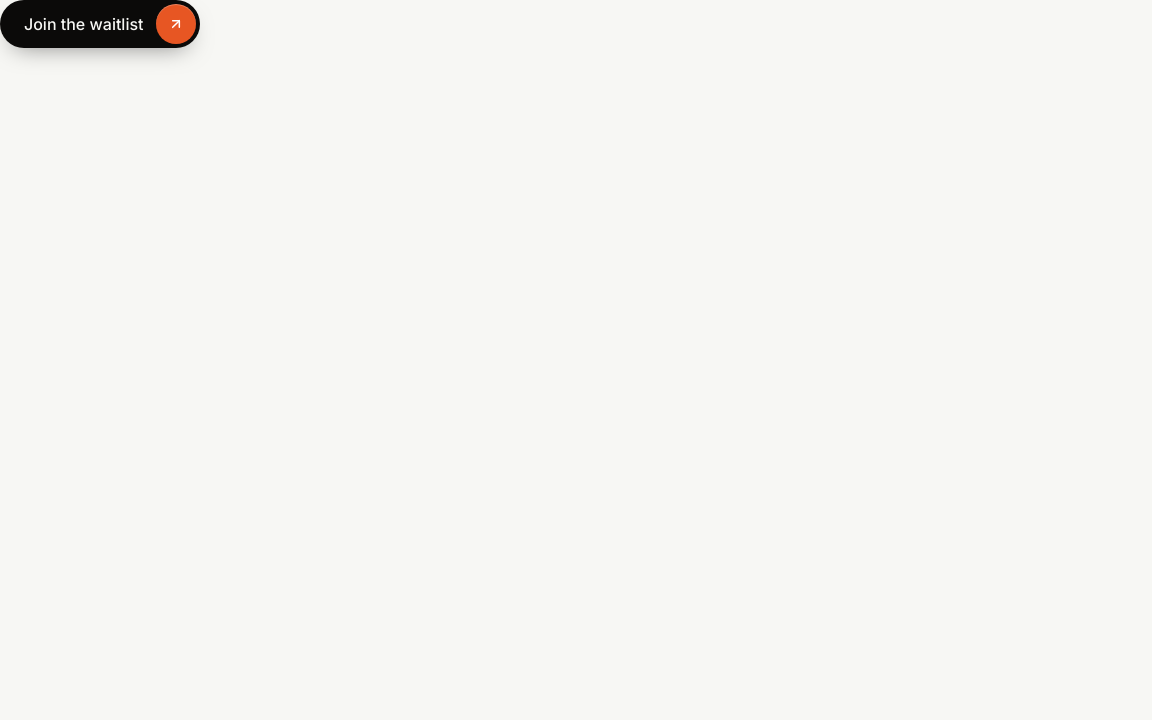
Test case: WaitlistCta + waitlist panel › closes on Escape and returns focus to the pill
Click the button "Join the waitlist".
click(100, 24)  # box [0,0,200,48]
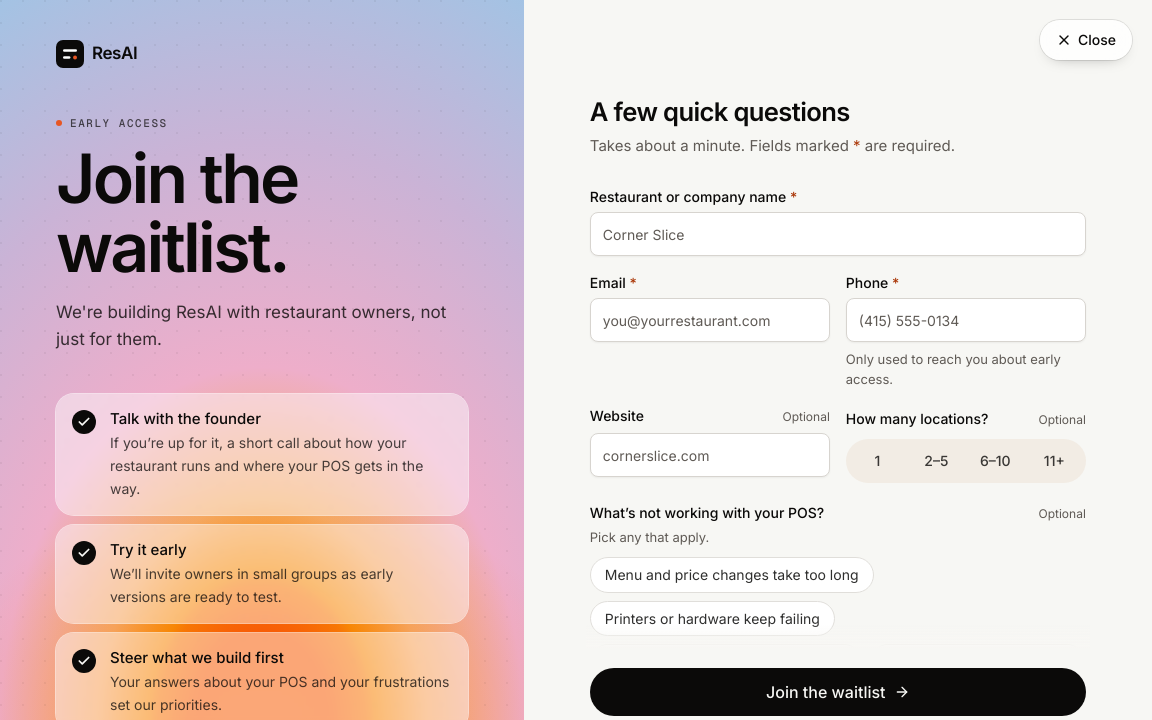
Expected: the dialog is shown
Press Escape
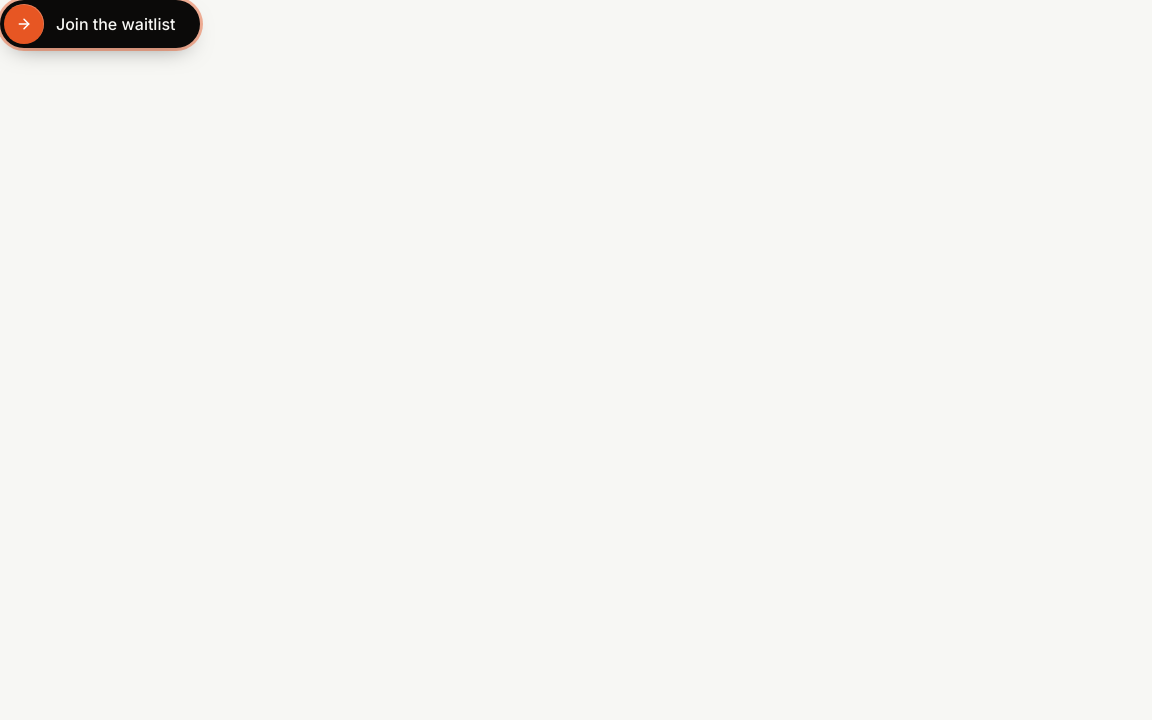
Expected: the dialog is gone
